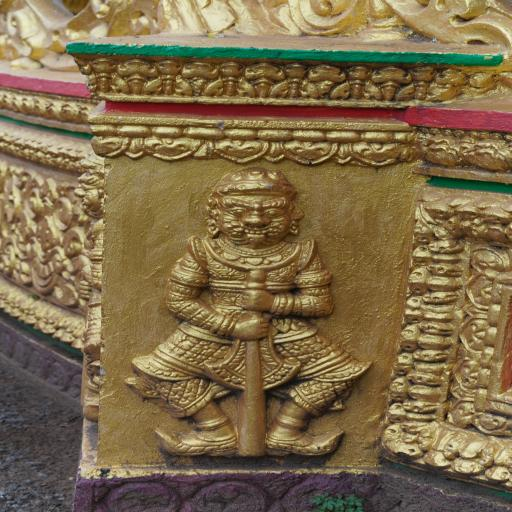la: (459, 313, 505, 359), (235, 62, 290, 100), (452, 355, 500, 397), (285, 140, 353, 168), (296, 65, 352, 99), (463, 270, 509, 311), (172, 62, 226, 96), (204, 64, 258, 98), (267, 63, 318, 99), (81, 58, 130, 95), (144, 61, 192, 98), (214, 140, 285, 165), (144, 136, 211, 162), (110, 60, 159, 95), (396, 65, 441, 101), (365, 67, 412, 100), (90, 135, 148, 161), (440, 394, 487, 426), (334, 67, 379, 100), (352, 142, 404, 167), (467, 247, 512, 272)
than: (118, 167, 378, 474), (67, 158, 109, 398)
